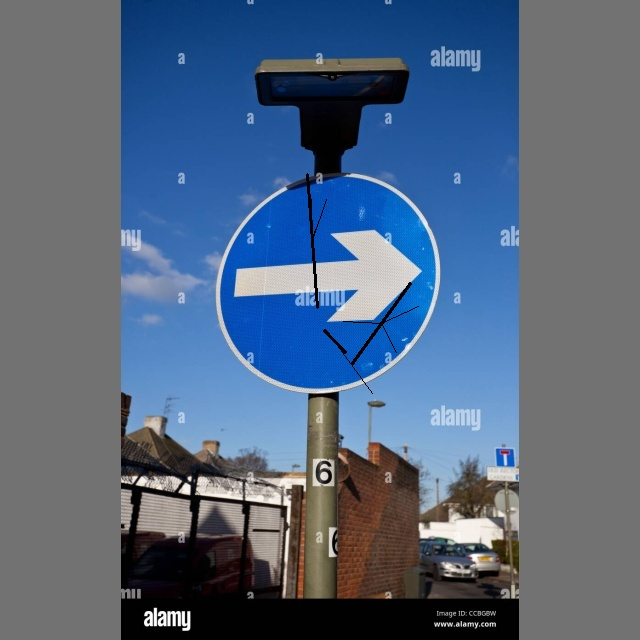Compulsory_Turn_Right: (212, 173, 439, 394)
